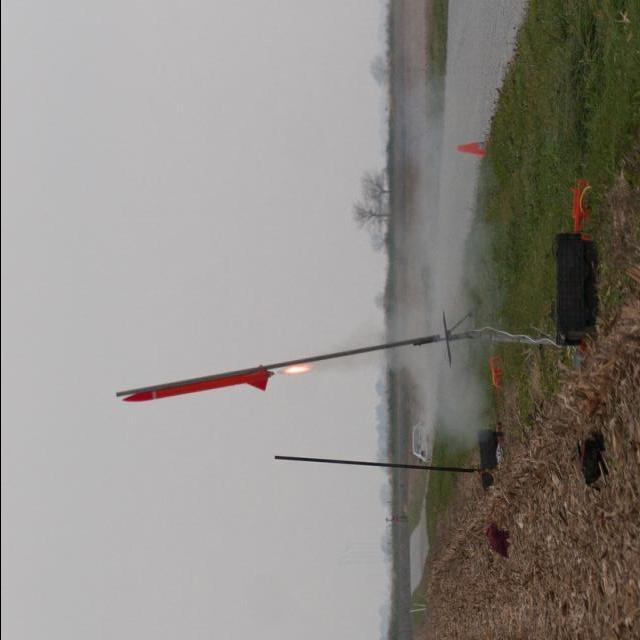missile: (105, 362, 272, 400)
